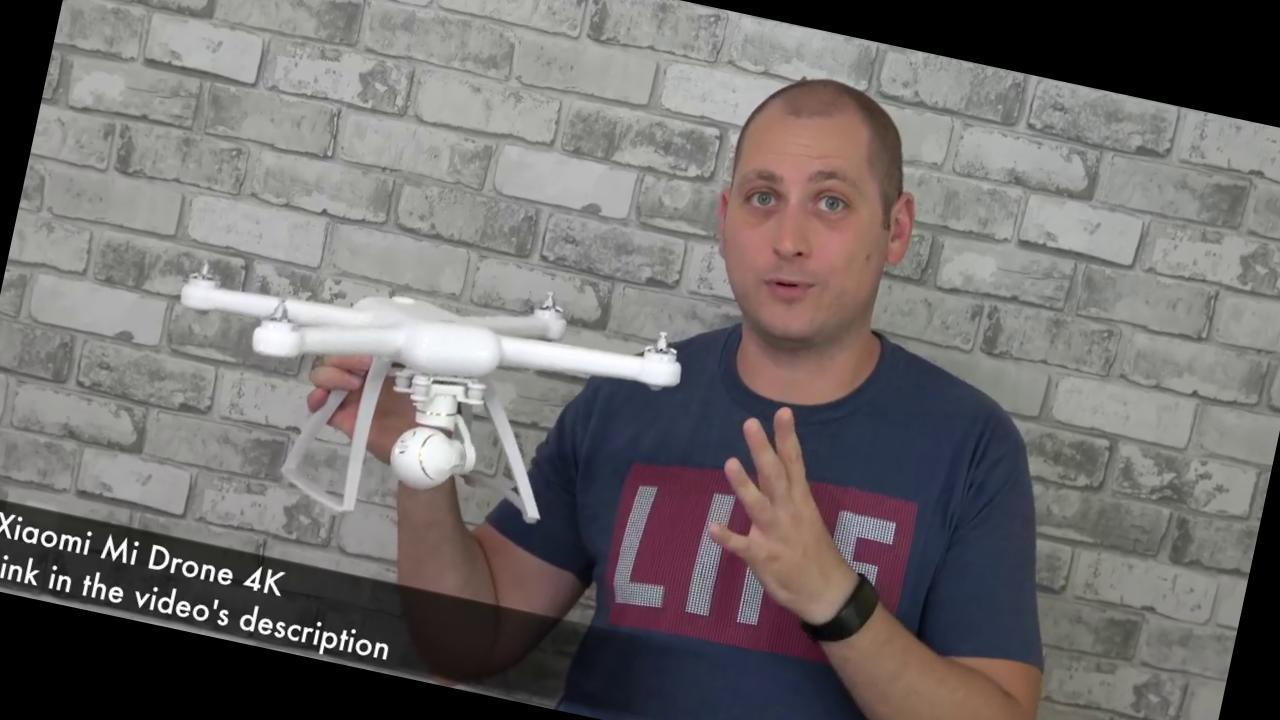drone: (161, 211, 704, 443)
